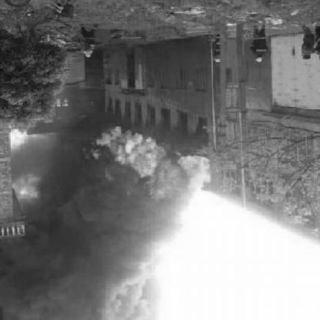Fire: (80, 126, 219, 204)
